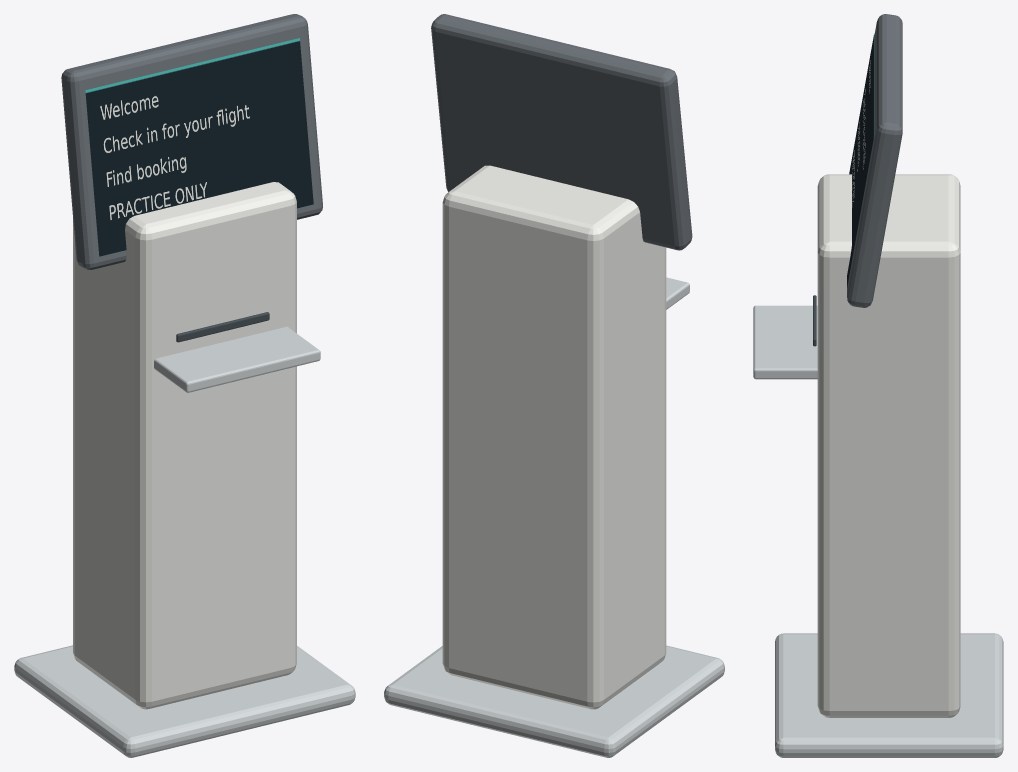
The model's file is checkin-kiosk.glb.
The picture shows the model from 3 angles, left to right: view 1: azimuth 30°, elevation 25°; view 2: azimuth 150°, elevation 25°; view 3: azimuth 270°, elevation 25°; orthographic projection.
Parts seen in each view (by area): view 1: Pedestal, TouchScreen, Base, ScreenHousing, DocumentLedge, PrinterSlot; view 2: Pedestal, ScreenHousing, Base; view 3: Pedestal, Base, ScreenHousing, DocumentLedge, TouchScreen.
Part boxes in pixels (x1=…): Pedestal: x1=73, y1=182, x2=296, y2=709; TouchScreen: x1=85, y1=38, x2=313, y2=256; Base: x1=14, y1=645, x2=355, y2=757; ScreenHousing: x1=61, y1=14, x2=322, y2=269; DocumentLedge: x1=154, y1=326, x2=320, y2=392; PrinterSlot: x1=176, y1=312, x2=269, y2=342; Pedestal: x1=442, y1=165, x2=666, y2=709; ScreenHousing: x1=431, y1=14, x2=692, y2=250; Base: x1=384, y1=645, x2=724, y2=757; Pedestal: x1=817, y1=174, x2=960, y2=717; Base: x1=775, y1=633, x2=1003, y2=757; ScreenHousing: x1=847, y1=14, x2=902, y2=307; DocumentLedge: x1=753, y1=305, x2=817, y2=379; TouchScreen: x1=847, y1=34, x2=874, y2=287.
Bounding box in the file's own units: 0.57 × 1.47 × 0.525.
5 materials, 1 textured.
